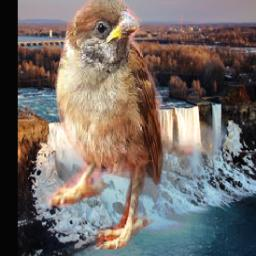Sparrow: (45, 0, 197, 250)
